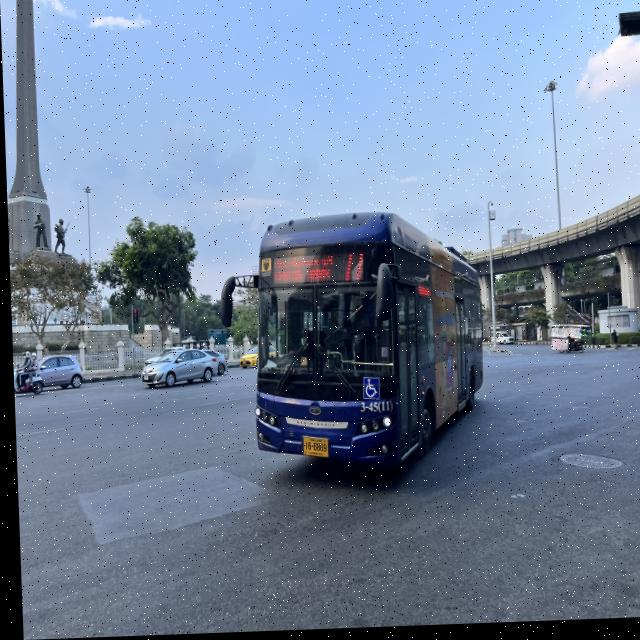Bus Line Number: (337, 246, 367, 291)
Bus Side Number: (352, 401, 391, 419)
Destination Sign: (268, 251, 335, 291)
TSB-Bus: (251, 215, 482, 477)
